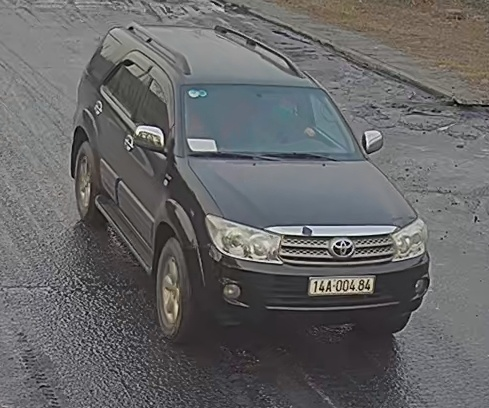vehicle plate: (304, 272, 376, 296)
